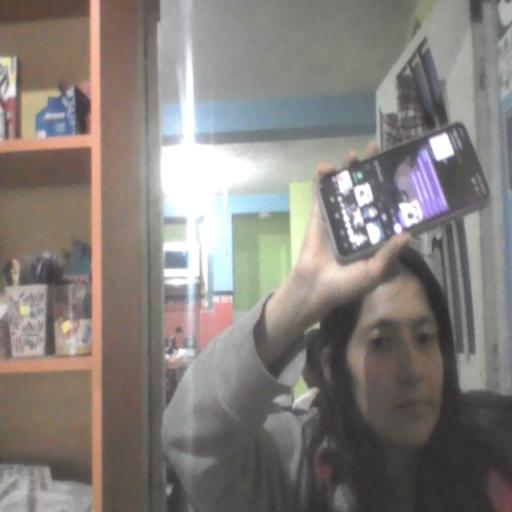phone: (314, 116, 499, 262)
